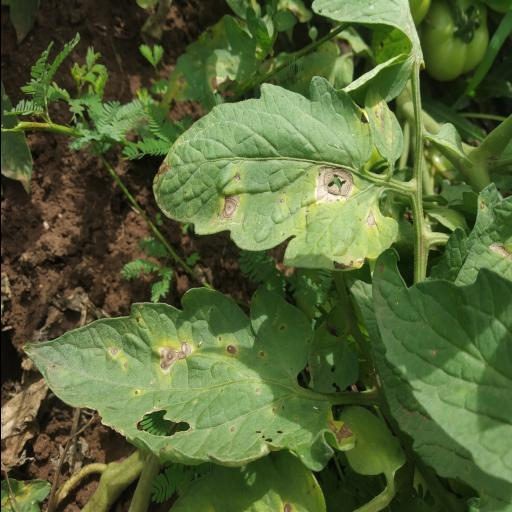disease_tomato: (34, 286, 354, 468), (151, 72, 400, 274)
